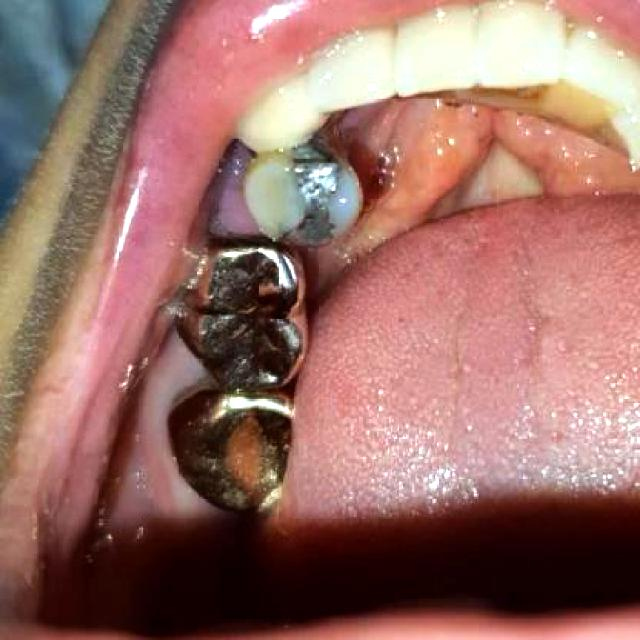Plaque: (263, 152, 360, 246)
